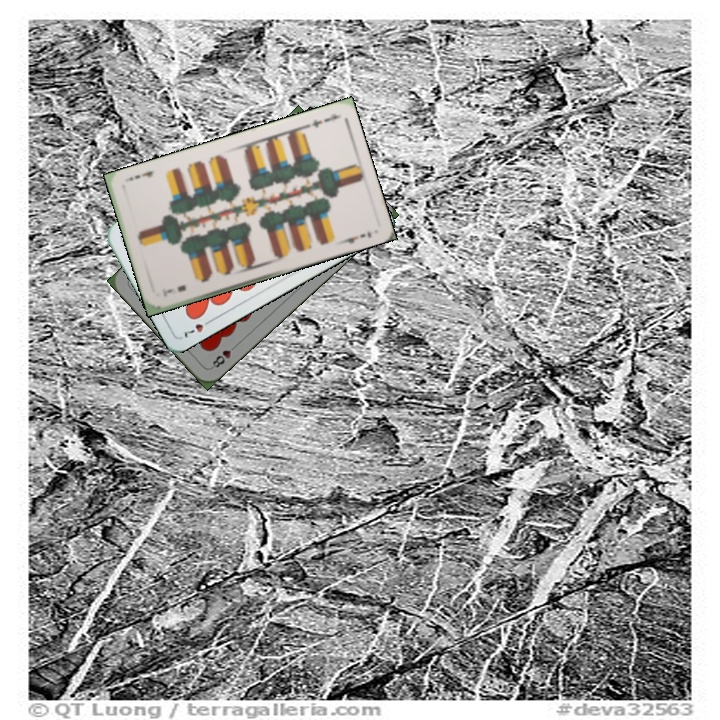E7: (301, 110, 341, 131), (158, 281, 189, 299)
H7: (179, 315, 216, 341)
H8: (207, 340, 240, 371)
